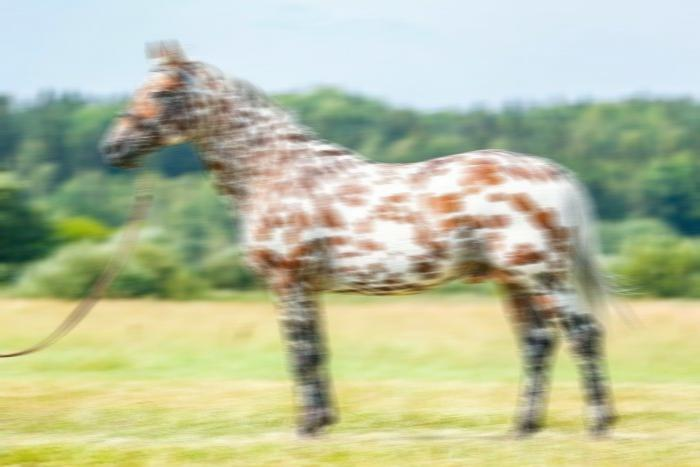horse: (100, 37, 643, 444)
